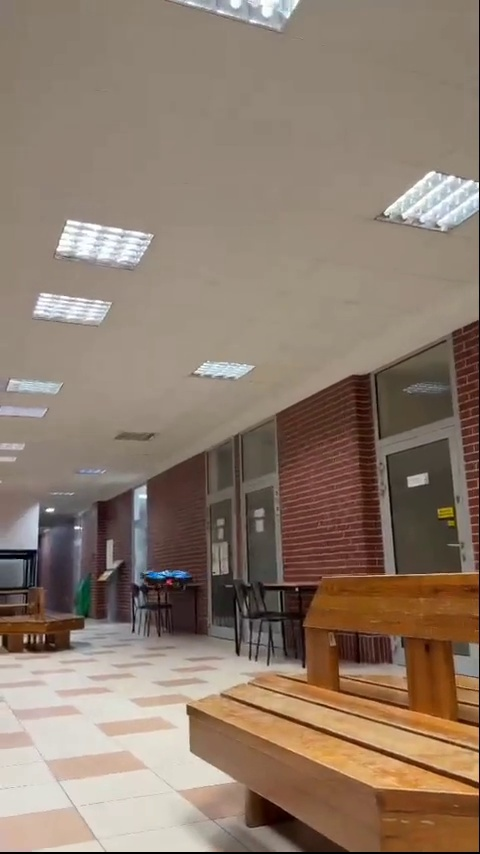drone: (140, 564, 196, 592)
